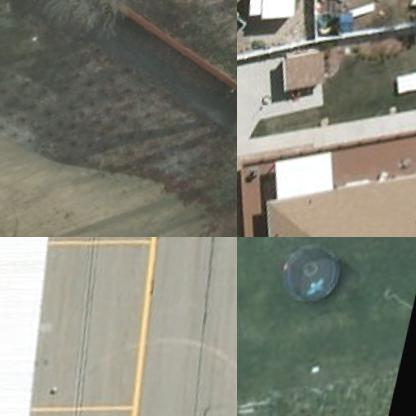camping car: (241, 0, 327, 28)
